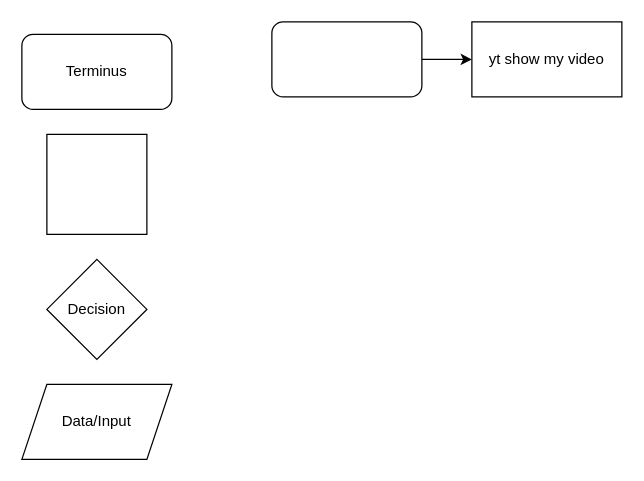
Some shapes in this 644 by 481 pixel diagram are drawn without their labels. The centre of each missing label's shape, as x and y in pixels:
"start" goes at pixel 346 59.
"Task/activity/Proces" goes at pixel 96 183.
